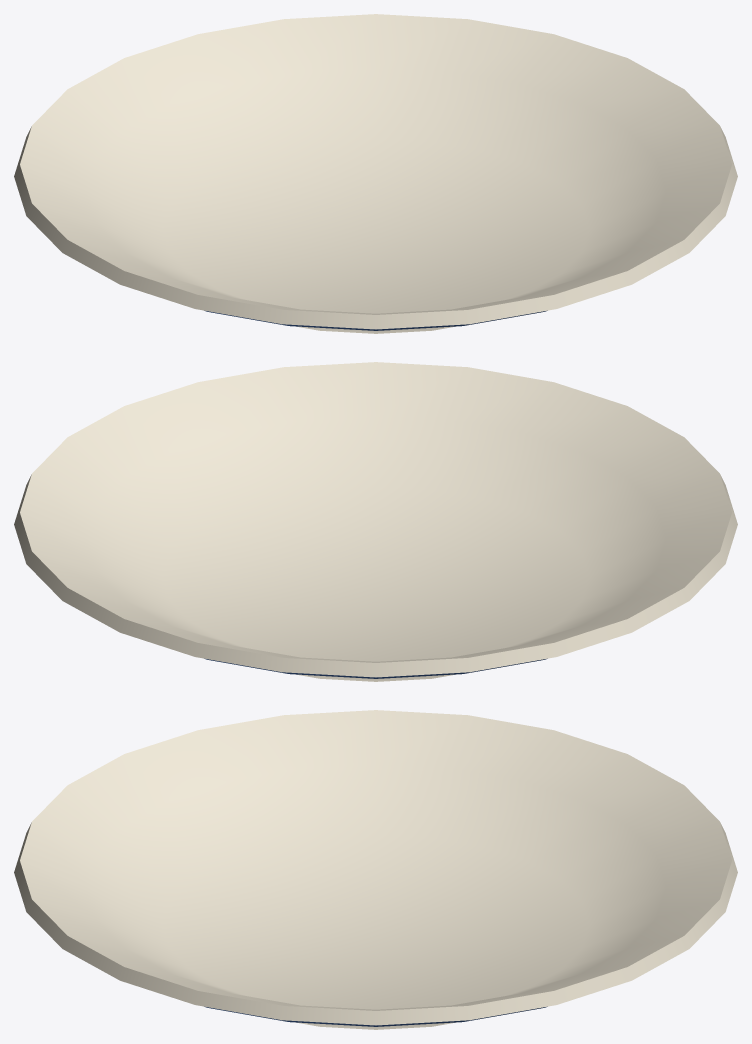
Rendered from tpl_cucina_plate_small.glb.
3 views of the same model, one above another, from view 1: azimuth 30°, elevation 25°; view 2: azimuth 150°, elevation 25°; view 3: azimuth 270°, elevation 25° (orthographic).
Parts seen in each view (by area): view 1: tpl_cucina_plate_small; view 2: tpl_cucina_plate_small; view 3: tpl_cucina_plate_small.
Part boxes in pixels (left/top/right/bottom): tpl_cucina_plate_small: left=14, top=14, right=737, bottom=333; tpl_cucina_plate_small: left=14, top=362, right=737, bottom=681; tpl_cucina_plate_small: left=14, top=710, right=737, bottom=1029.
Size of the model in its own units: 0.2 by 0.0237 by 0.2.
